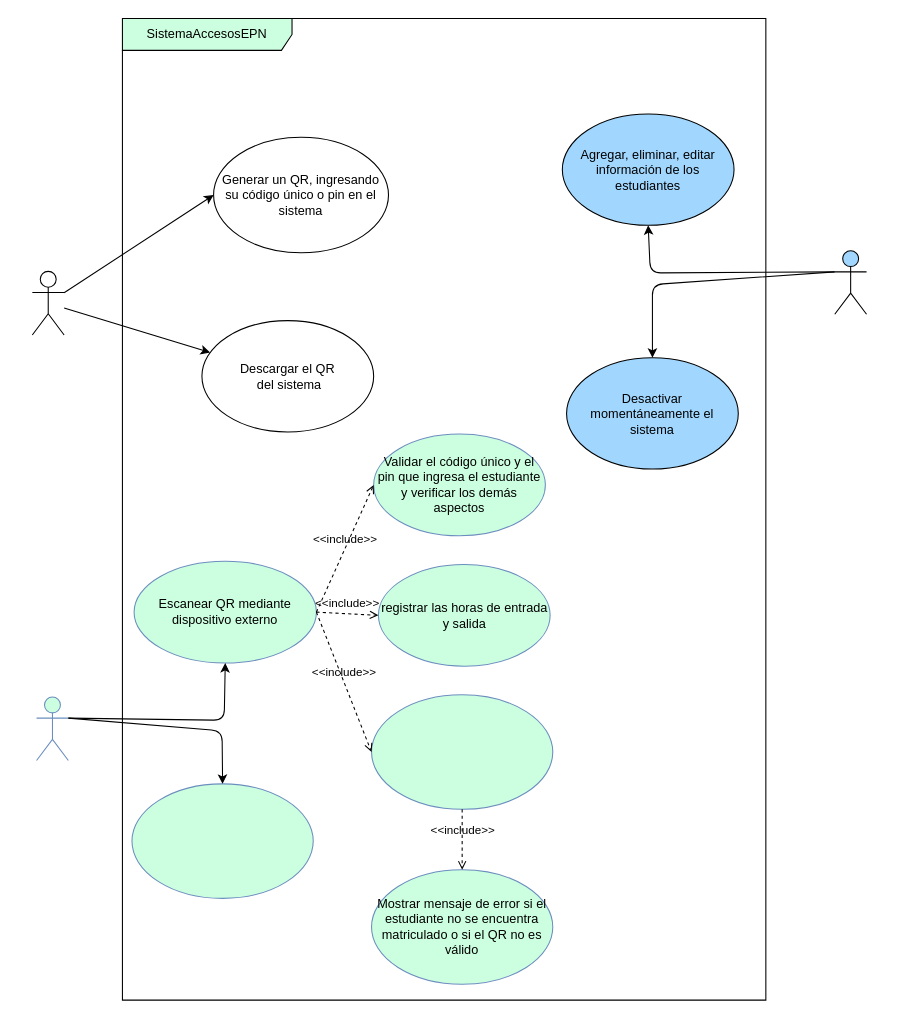
Image size: 908x1019. Some labels were removed from this diagram. Each missing label, with the centre of its shape:
Administrador: [850,282]
Estudiante: [47,302]
Mostrar los datos del estudiante al momento del escaneo: [461,751]
Notificar al administrador del uso de QR irregulares: [222,840]
Sistema: [52,728]
